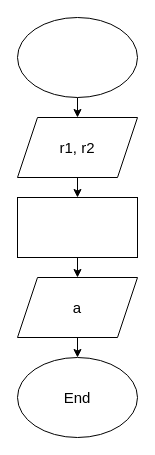
This 155x455 diagram has some shape labels left out. The shapes that lost their labels are listed below. From the top down, each one's centre as x and y in pixels, then its label:
At [77,57]: "Start".
At [77,227]: "a = (r1 * r2) / 2".
